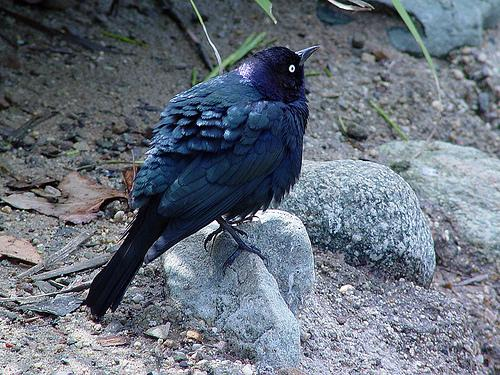009.Brewer_Blackbird: (84, 45, 325, 323)
